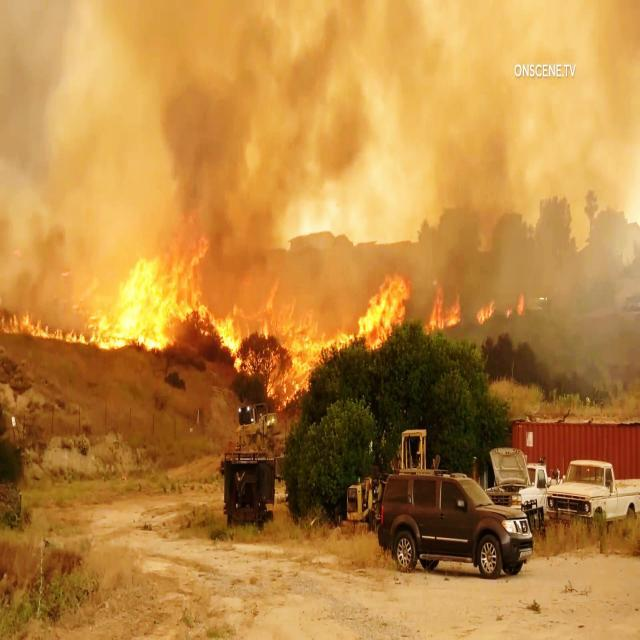Fire: (0, 224, 416, 412), (424, 281, 463, 341), (472, 296, 496, 325), (516, 295, 526, 315), (505, 304, 512, 322)
Smoke: (0, 1, 640, 222)
